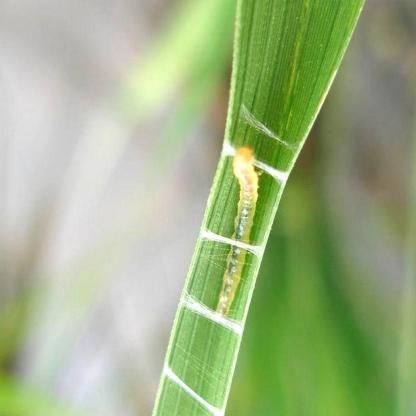leaf-folder: (212, 136, 264, 322)
